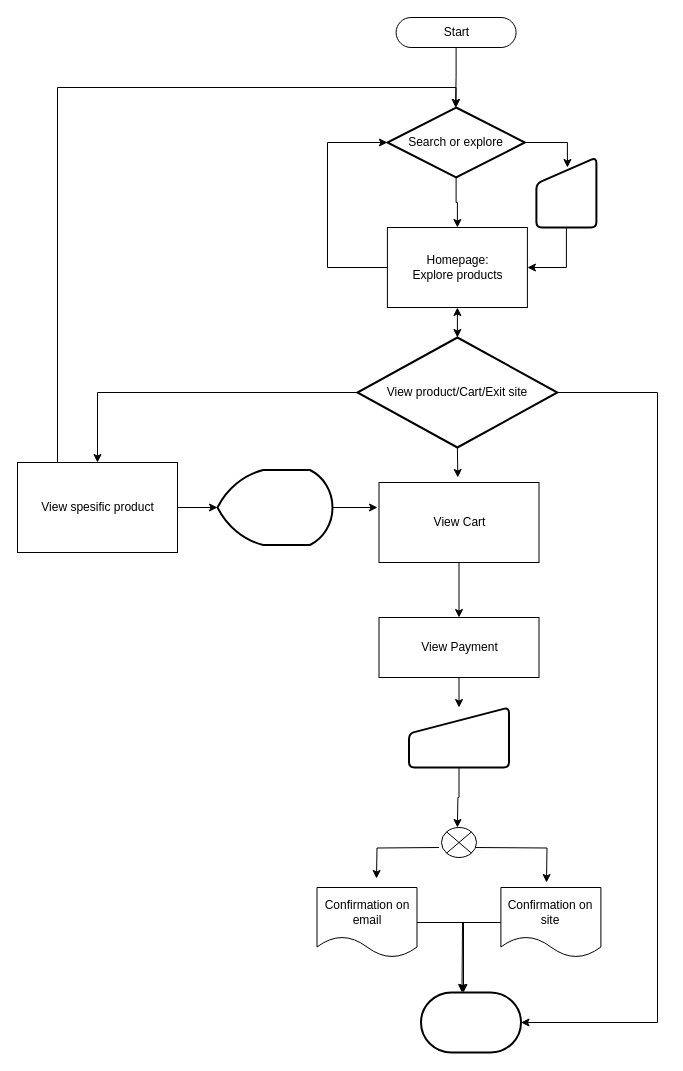
Image size: 683x1071. Some labels were removed from this diagram. Each missing label, with the centre of its shape:
"Confirmation of product added to cart" belongs at point 274,507.
"Leave page" belongs at point 471,1022.
"Payment information" belongs at point 459,737.
"Product search" belongs at point 566,192.
